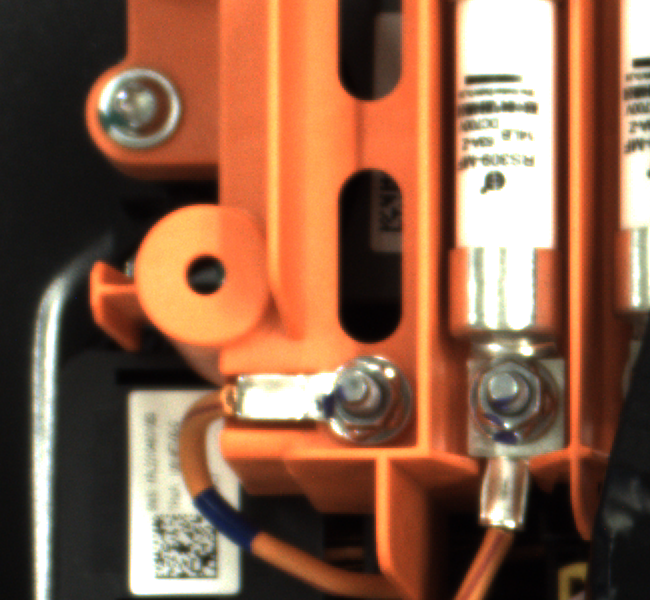screw_m: (73, 60, 208, 154)
screw_s: (472, 357, 564, 454), (321, 358, 418, 449)
